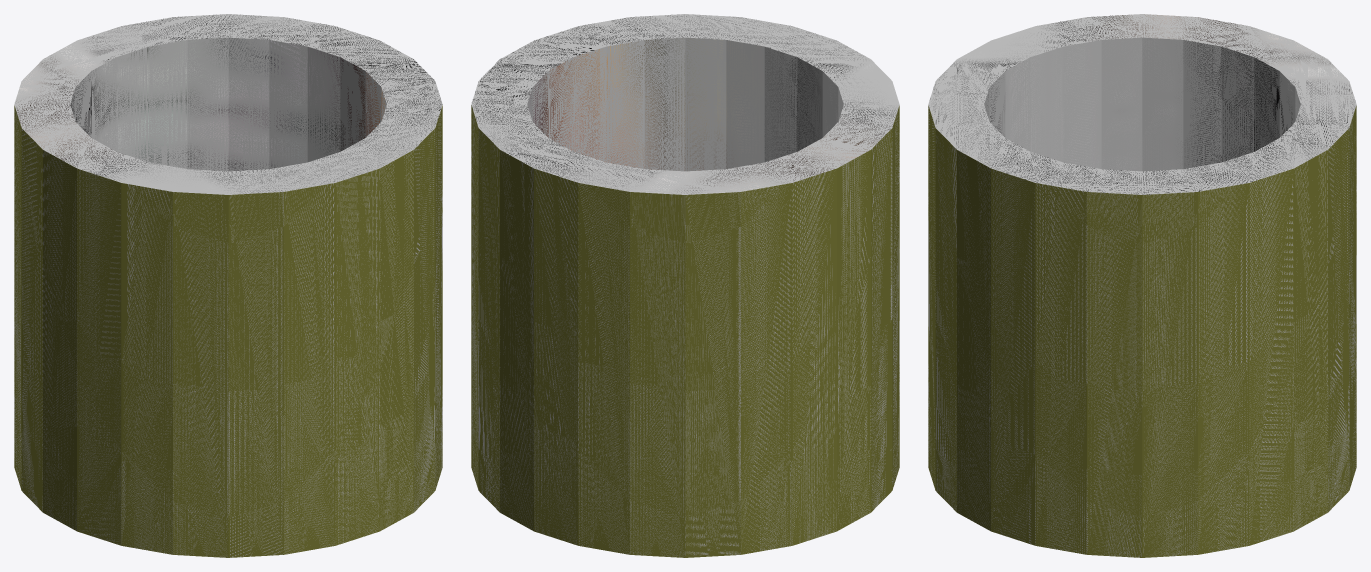
3 views of the same model, side by side, from view 1: azimuth 30°, elevation 25°; view 2: azimuth 150°, elevation 25°; view 3: azimuth 270°, elevation 25° (orthographic).
Visible parts, largest first — view 1: mesh1_mesh1-geometry; view 2: mesh1_mesh1-geometry; view 3: mesh1_mesh1-geometry.
Part boxes in pixels (x1,y1,x2,y2): mesh1_mesh1-geometry: [14, 14, 442, 557]; mesh1_mesh1-geometry: [471, 14, 899, 557]; mesh1_mesh1-geometry: [928, 14, 1356, 557].
Bounding box in the file's own units: 0.5899 × 0.5514 × 0.5899.
